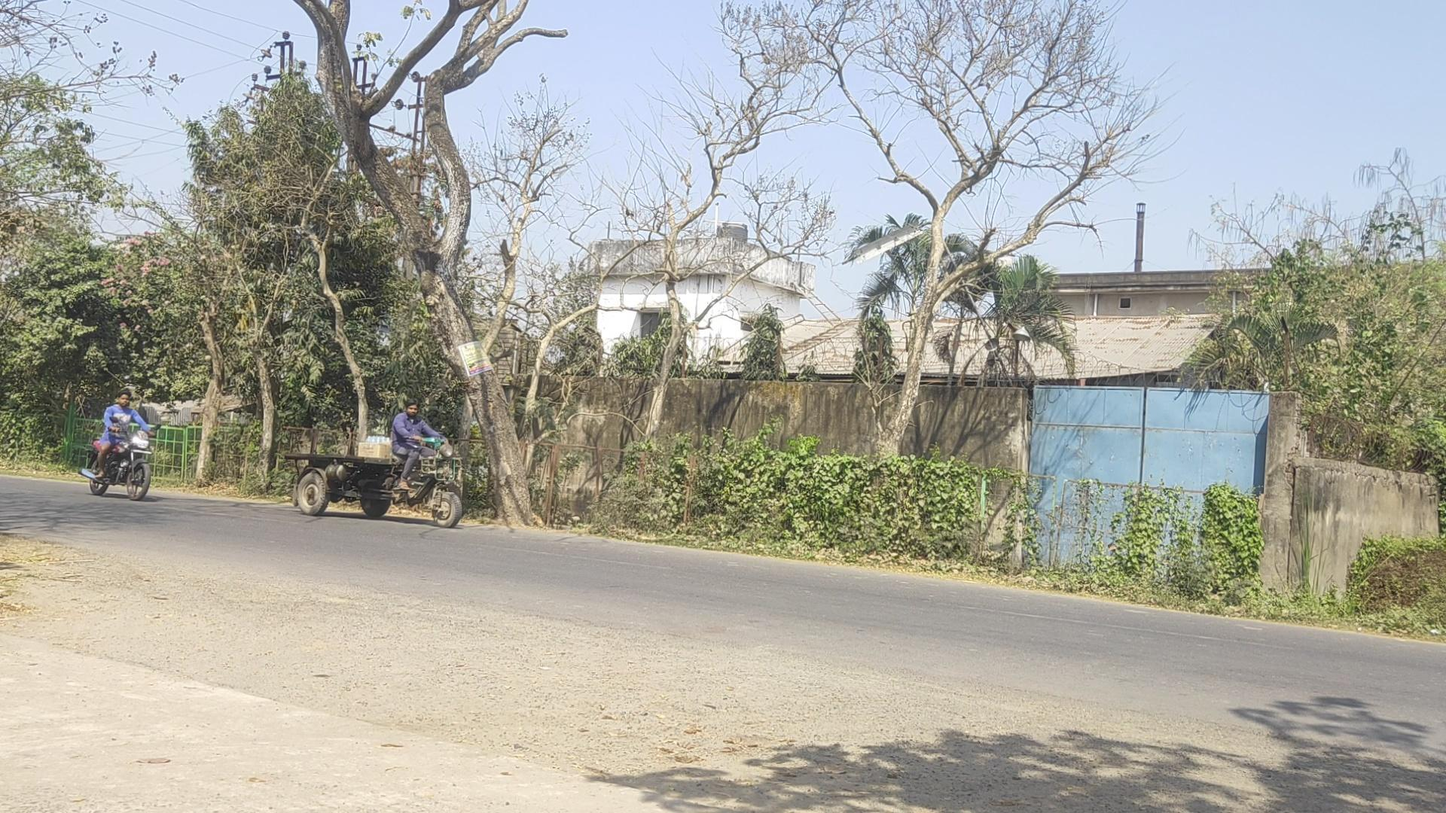bike: (79, 390, 160, 501)
